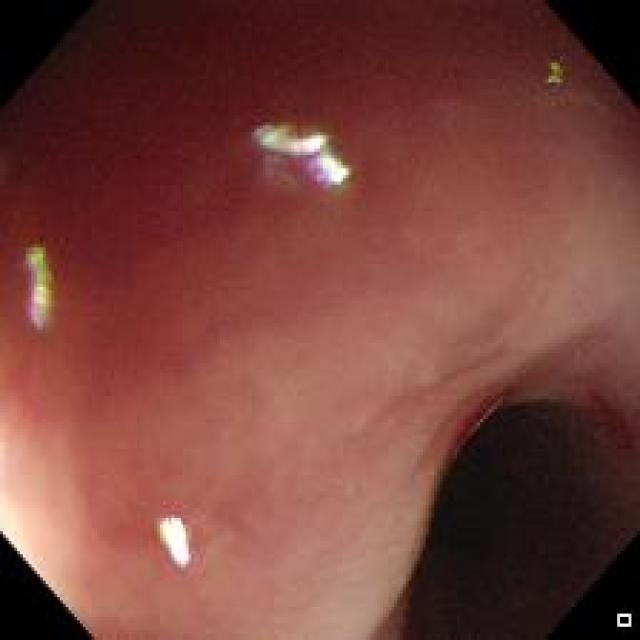blood: (441, 386, 517, 479)
color misalignment: (250, 120, 351, 189), (25, 246, 55, 334), (548, 59, 564, 87), (617, 612, 632, 628)
contrast: (402, 401, 616, 630)
specularity: (158, 518, 192, 572), (325, 162, 349, 183), (309, 138, 324, 150)
